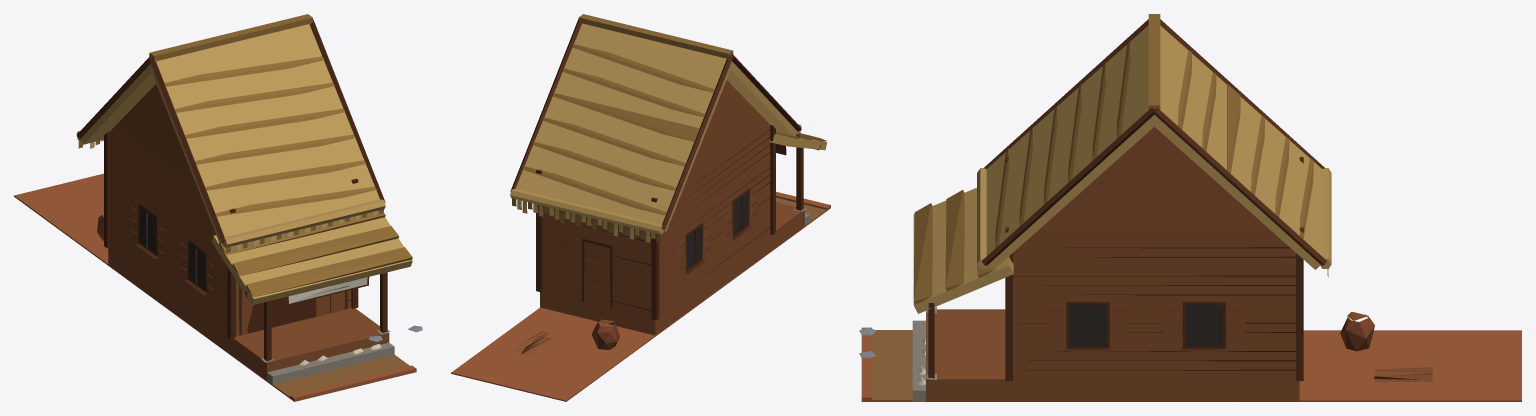
File: bay2_one.glb
3 views of the same model, side by side, from view 1: azimuth 30°, elevation 25°; view 2: azimuth 150°, elevation 25°; view 3: azimuth 270°, elevation 25° (orthographic). The views are drawn at different scales.
Parts seen in each view (by area): view 1: body, windows; view 2: body, windows; view 3: body, windows.
Part boxes in pixels (bbox=[...]): body: bbox=[14, 14, 422, 401]; windows: bbox=[139, 207, 205, 289]; body: bbox=[451, 14, 830, 401]; windows: bbox=[686, 191, 748, 268]; body: bbox=[859, 14, 1521, 401]; windows: bbox=[1069, 304, 1222, 346].
Size of the model in its own units: 5.38 by 8.17 by 15.96.
